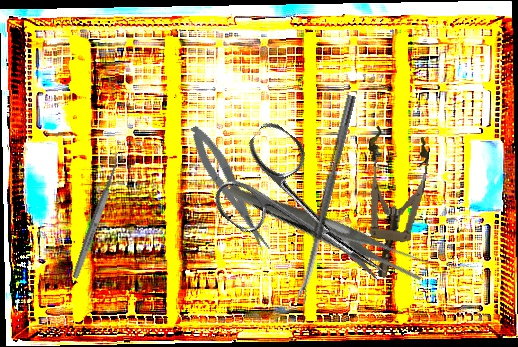Dressing Forceps: (226, 132, 433, 326)
Iris Scissors: (203, 117, 417, 317)
Micro Scissor: (184, 120, 275, 258)
Speculum: (350, 125, 433, 282)
Surgical Spoon: (294, 94, 357, 304), (70, 152, 125, 280)
